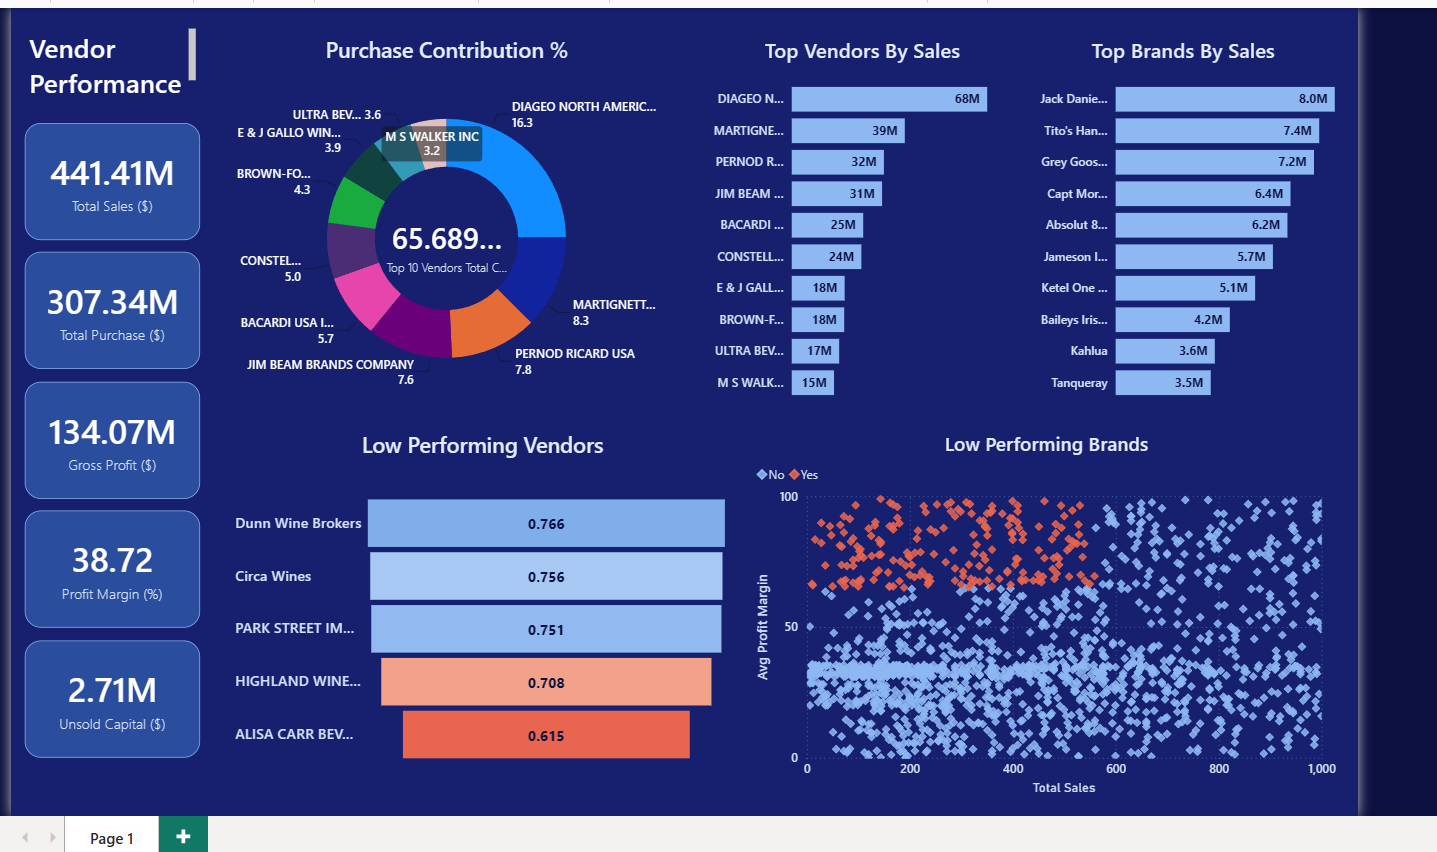

What the dashboard file says about the page in this screenshot:
{"tool":"powerbi","page":{"name":"Page 1","canvas":[1500,900],"ordinal":0},"visuals":[{"type":"card","fields":{"Values":["Sum(vendor_sales_summary.TotalPurchaseDollars)"]},"box":[15,272,195,130],"z":0},{"type":"card","fields":{"Values":["Sum(vendor_sales_summary.TotalSalesDollars)"]},"box":[15,128,195,130],"z":1000},{"type":"card","fields":{"Values":["Sum(vendor_sales_summary.GrossProfit)"]},"box":[15,416,195,130],"z":2000},{"type":"card","fields":{"Values":["Avg(vendor_sales_summary.ProfitMargin)"]},"box":[15,560,195,130],"z":3000},{"type":"card","fields":{"Values":["Sum(vendor_sales_summary.UnsoldCapital)"]},"box":[15,704,195,130],"z":4000},{"type":"textbox","box":[15,18,195,92],"z":5000},{"type":"donutChart","title":"Purchase Contribution %","fields":{"Category":["PurchaseContribution.VendorName"],"Y":["Sum(PurchaseContribution.PurchaseContribution%)"]},"box":[244.4,30.6,480,420],"z":6000},{"type":"card","fields":{"Values":["Sum(PurchaseContribution.PurchaseContribution%)"]},"box":[410,215,150,100],"z":7000},{"type":"barChart","title":"Top Vendors By Sales","fields":{"Category":["vendor_sales_summary.VendorName"],"Y":["Sum(vendor_sales_summary.TotalSalesDollars)"]},"box":[765.4,30.6,365,420],"z":8000},{"type":"barChart","title":"Top Brands By Sales","fields":{"Category":["vendor_sales_summary.Description"],"Y":["Sum(vendor_sales_summary.TotalSalesDollars)"]},"box":[1130.5,30.6,350,420],"z":9000},{"type":"funnel","title":"Low Performing Vendors","fields":{"Category":["LowTurnoverVendor.VendorName"],"Y":["Avg(LowTurnoverVendor.AvgStockTurnOver)"]},"box":[245,470,560,410],"z":10000},{"type":"scatterChart","title":"Low Performing Brands","fields":{"Category":["BrandPerformance.Description"],"Series":["BrandPerformance.TargetBrand"],"X":["Sum(BrandPerformance.TotalSales)"],"Y":["Sum(BrandPerformance.AvgProfitMargin)"]},"box":[825,470,655,410],"z":11000}]}

Visuals, with their boxes on the page's 1500x900 design canvas (x1, y1, x2, y2). These are canvas units, not pixel positions in the 1437x852 screenshot, which may show the page scaled, cropped or inside an application window:
card - Sum(vendor_sales_summary.TotalPurchaseDollars): locate(15, 272, 210, 402)
card - Sum(vendor_sales_summary.TotalSalesDollars): locate(15, 128, 210, 258)
card - Sum(vendor_sales_summary.GrossProfit): locate(15, 416, 210, 546)
card - Avg(vendor_sales_summary.ProfitMargin): locate(15, 560, 210, 690)
card - Sum(vendor_sales_summary.UnsoldCapital): locate(15, 704, 210, 834)
textbox: locate(15, 18, 210, 110)
"Purchase Contribution %" donutChart: locate(244, 31, 724, 451)
card - Sum(PurchaseContribution.PurchaseContribution%): locate(410, 215, 560, 315)
"Top Vendors By Sales" barChart: locate(765, 31, 1130, 451)
"Top Brands By Sales" barChart: locate(1130, 31, 1480, 451)
"Low Performing Vendors" funnel: locate(245, 470, 805, 880)
"Low Performing Brands" scatterChart: locate(825, 470, 1480, 880)
